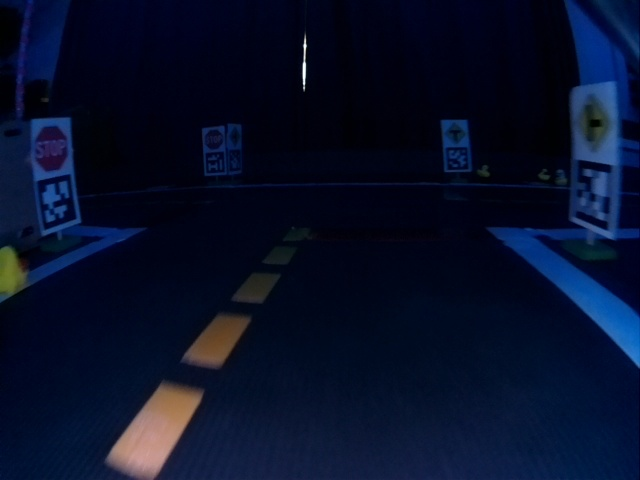Duckie: (1, 245, 27, 294), (556, 169, 567, 185), (477, 165, 489, 177), (538, 169, 548, 178)
Intersection sign: (444, 121, 466, 141), (229, 126, 241, 145)
QR code: (572, 160, 613, 229), (36, 174, 78, 231), (446, 147, 469, 171), (204, 153, 223, 174), (228, 150, 240, 171)
Stop sign: (33, 125, 70, 172), (203, 129, 222, 149)
